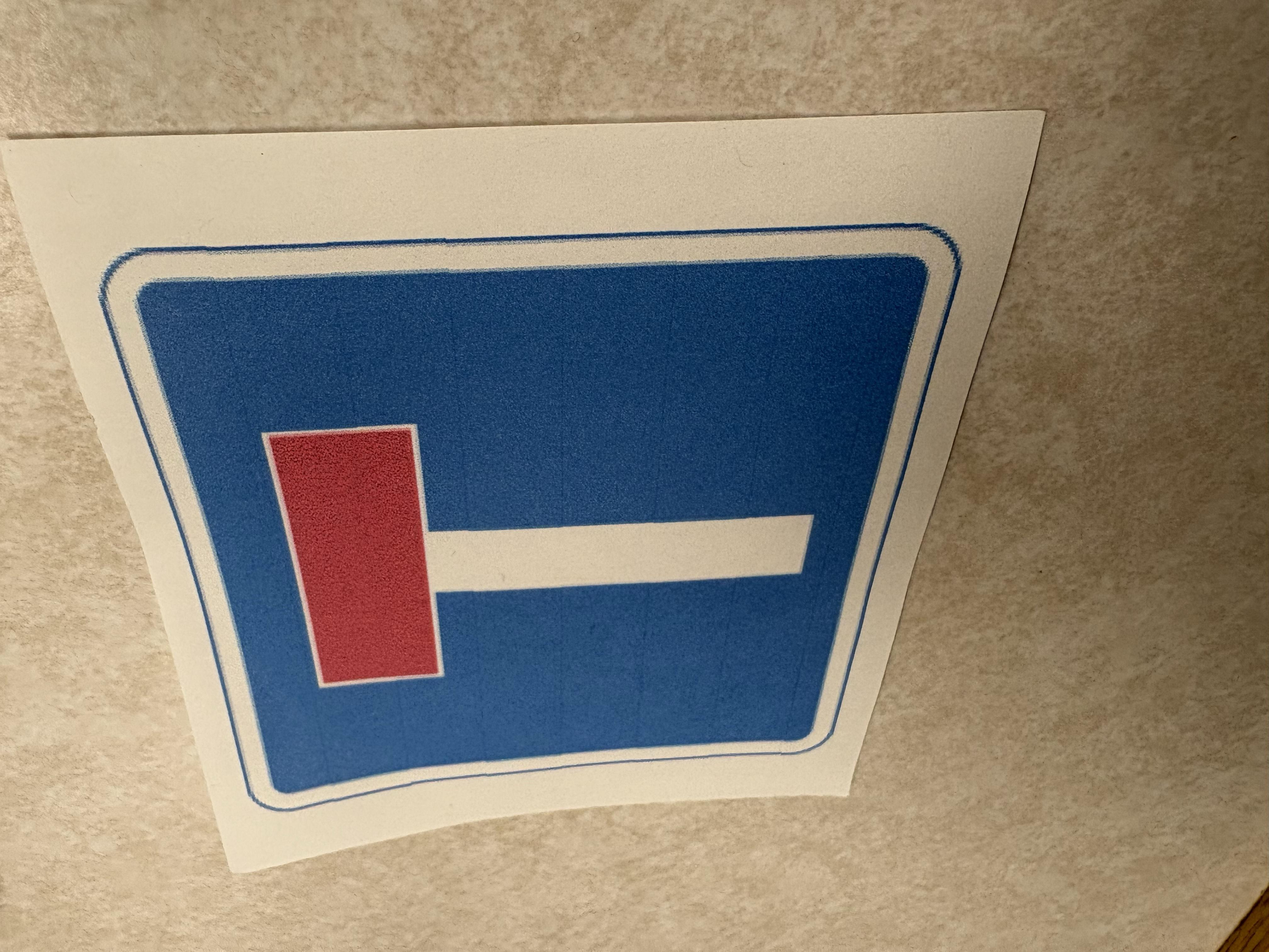Dead End: (6, 112, 1047, 871)
